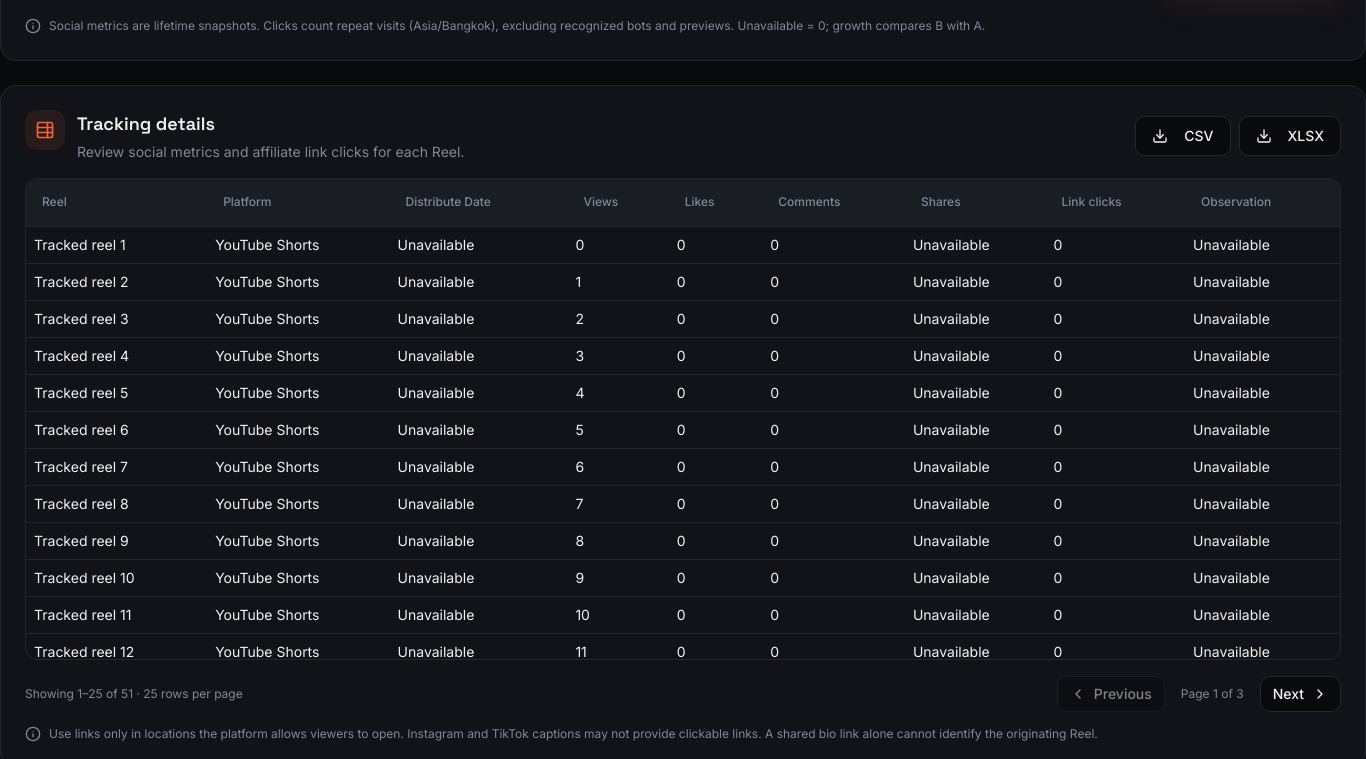
paginates tracking details by 25, exports the full scope, and resets after refresh
(page scrolled)
Expected: the text "Showing 1–25 of 51 · 25 rows per page" is shown, [25,686,243,702]
Expected: the button with aria-label "Previous tracking details page" is disabled, [1057,676,1165,712]
Click the button with aria-label "Next tracking details page" at (1300, 694), box [1260,676,1341,712]
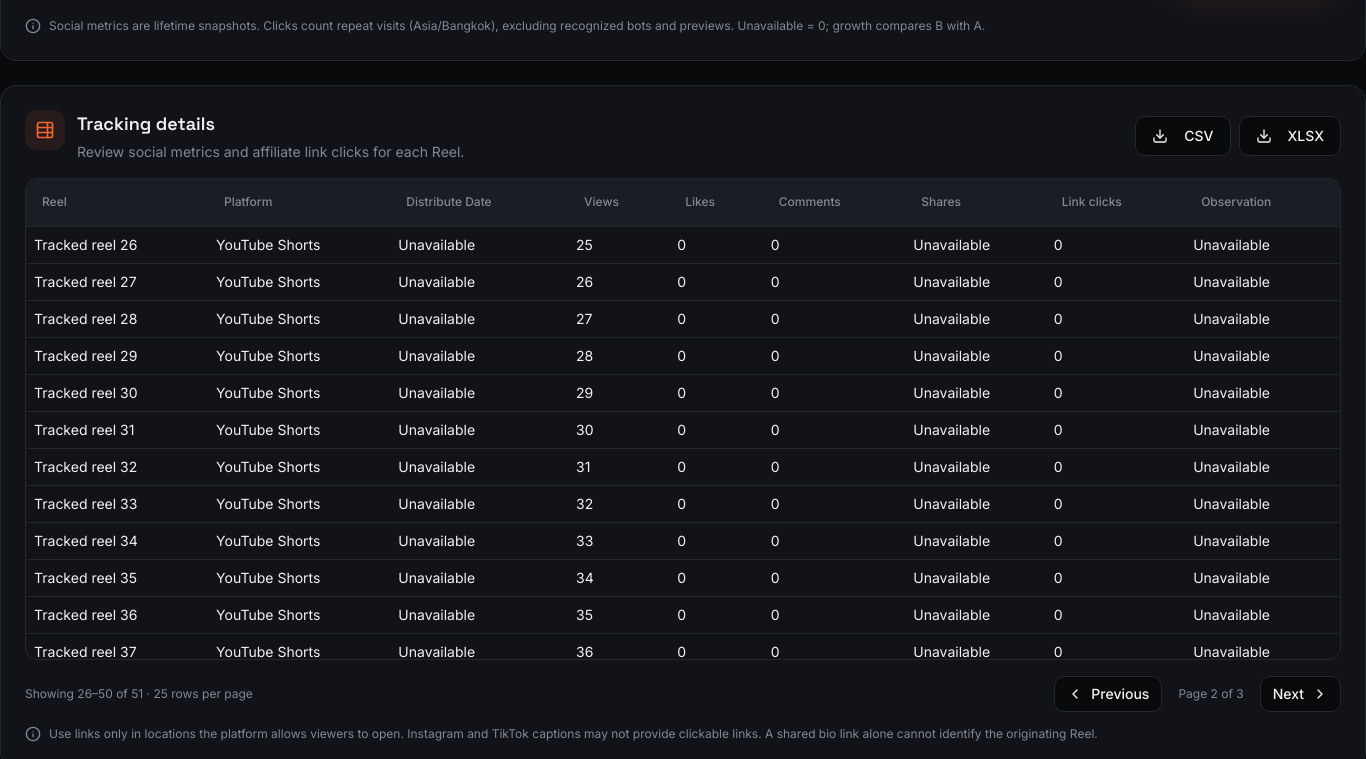
Result: the text "Showing 26–50 of 51 · 25 rows per page" is shown at [25,686,253,702]
Result: the text "Tracked reel 1" is gone
Click the button with aria-label "Next tracking details page" at (1300, 694), box [1260,676,1341,712]
(page scrolled)
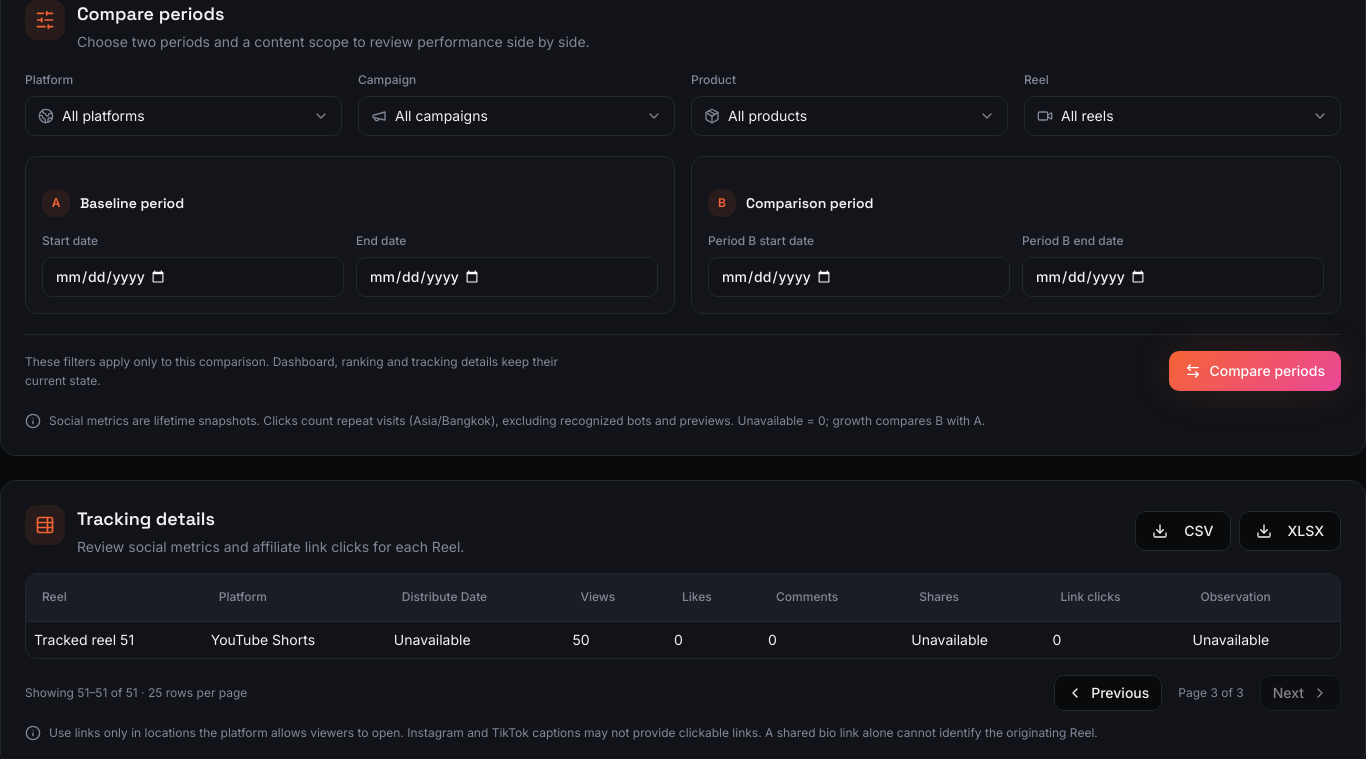
Result: the text "Tracked reel 51" is shown at [26,622,203,658]
Result: the button with aria-label "Next tracking details page" is disabled at [1260,675,1341,711]
Click the button "CSV" at (1183, 530), box [1135,510,1231,550]
(page scrolled)
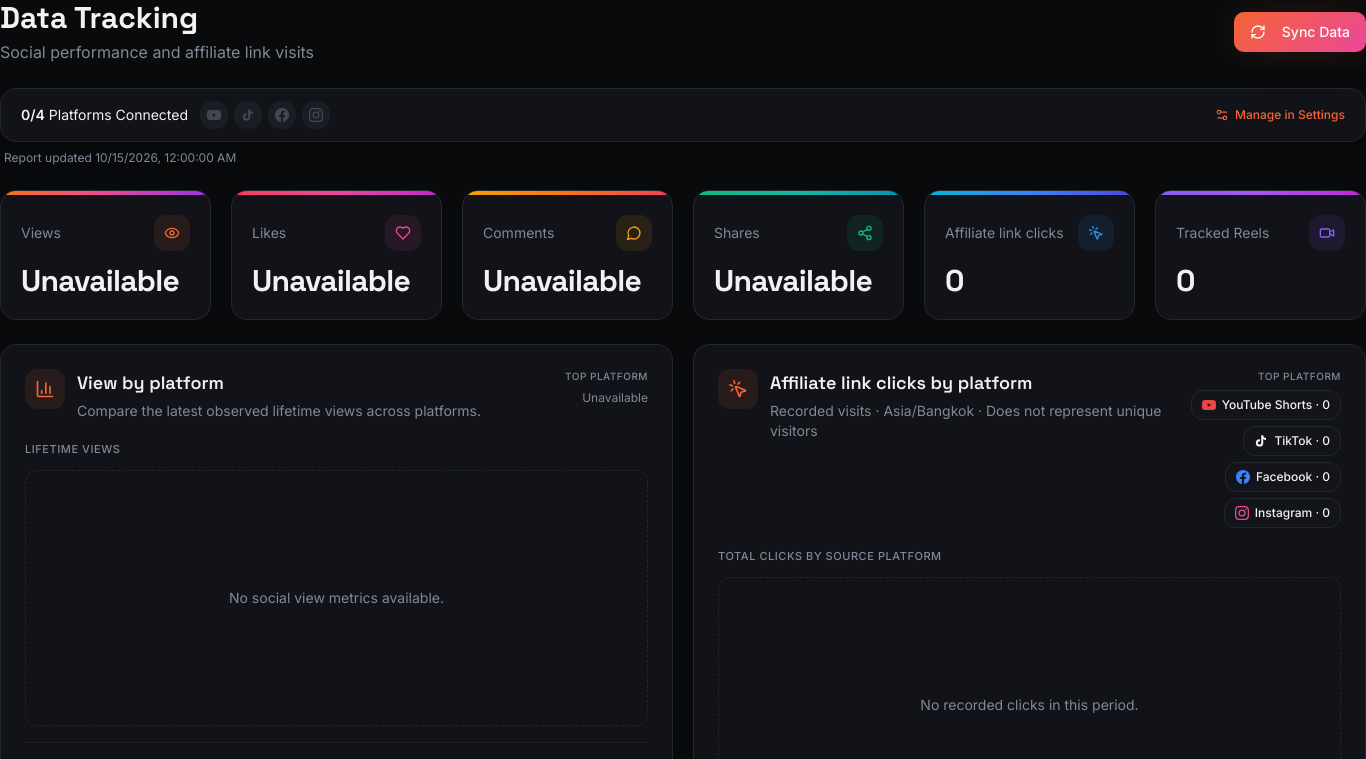
Click the button "Sync Data" at (1300, 32), box [1234,12,1365,52]
(page scrolled)
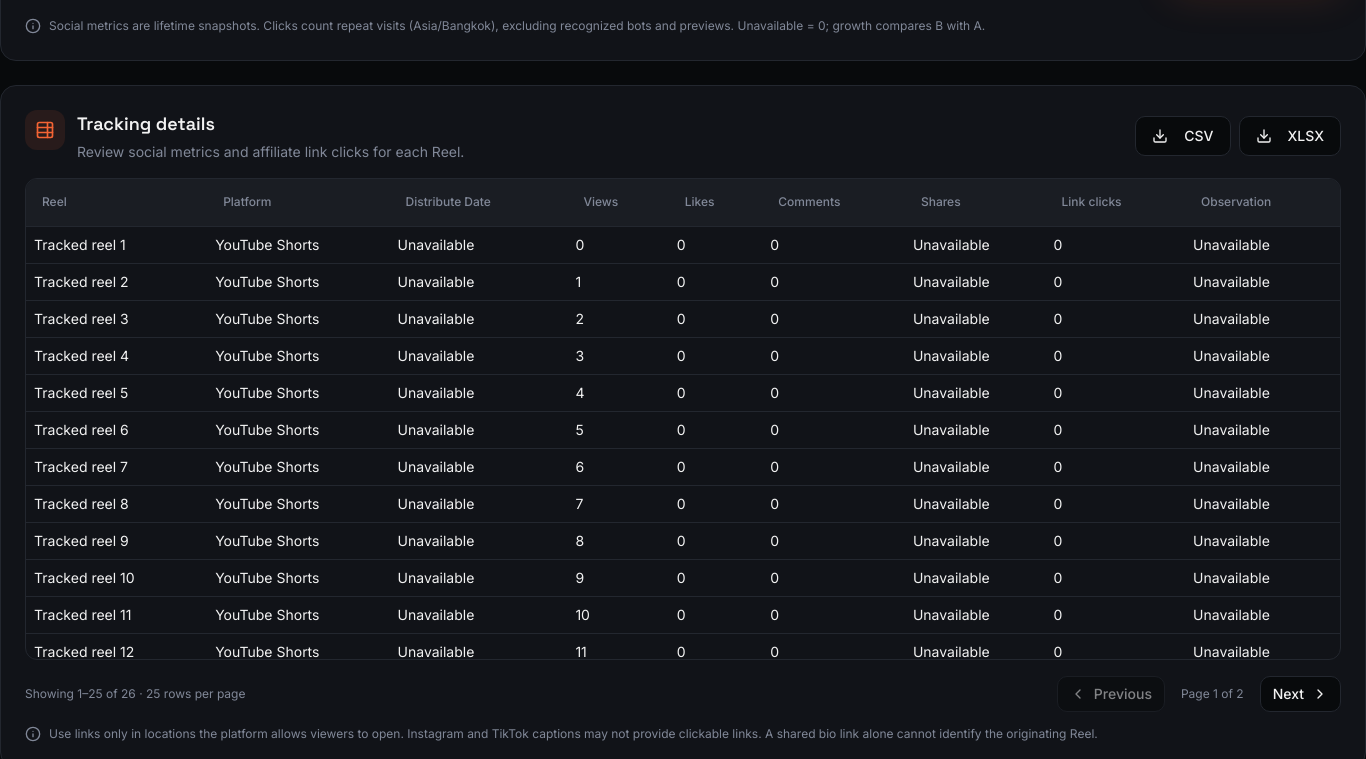
Result: the text "Showing 1–25 of 26 · 25 rows per page" is shown at [25,686,246,702]
Result: the text "Page 1 of 2" is shown at [1181,686,1244,700]
Result: the button with aria-label "Previous tracking details page" is disabled at [1057,676,1165,712]
